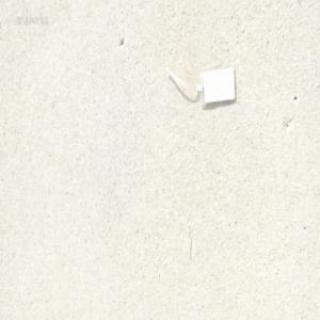LuggageTagtrack_idkeyframe: (162, 63, 237, 106)
